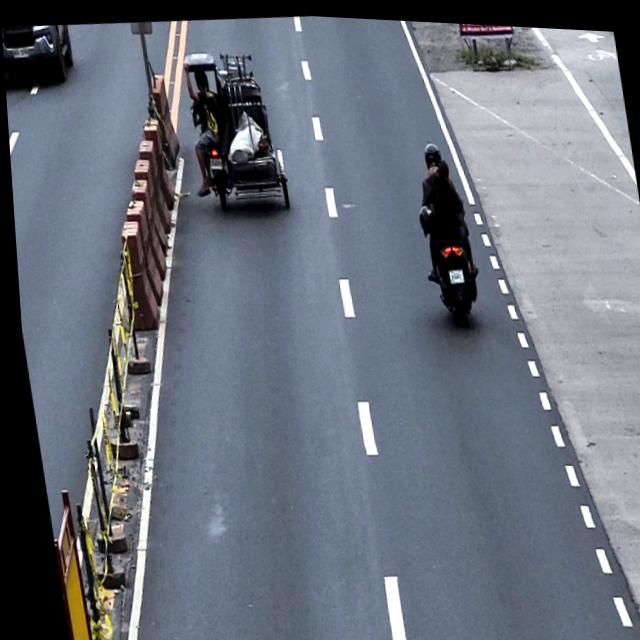Car: (1, 20, 79, 98)
License-Plate: (9, 45, 30, 61), (443, 262, 461, 280), (203, 152, 222, 169)
Motorcycle: (415, 176, 485, 326)
Tricycle: (177, 40, 290, 215)
